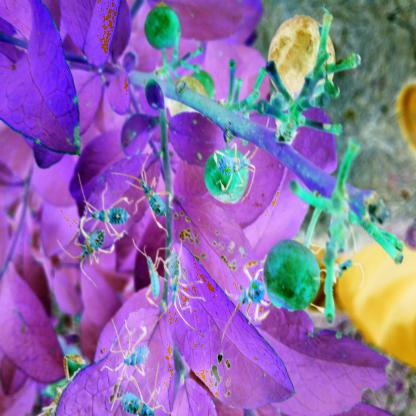Blueberry leaf: (1, 3, 88, 168)
